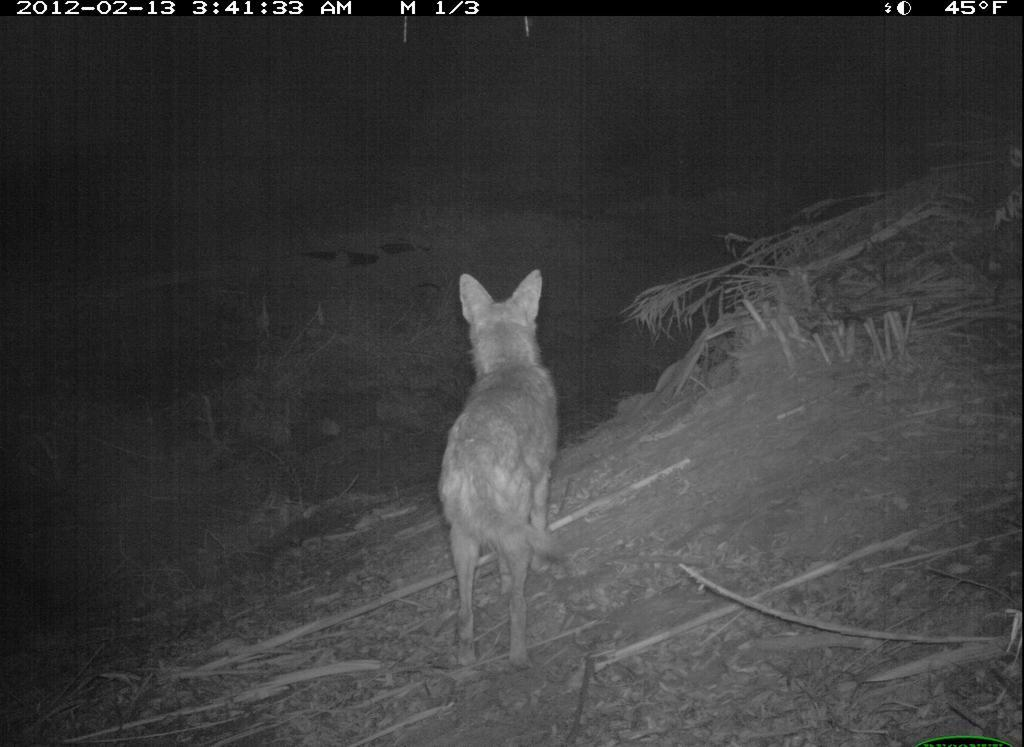coyote: (428, 263, 583, 690)
